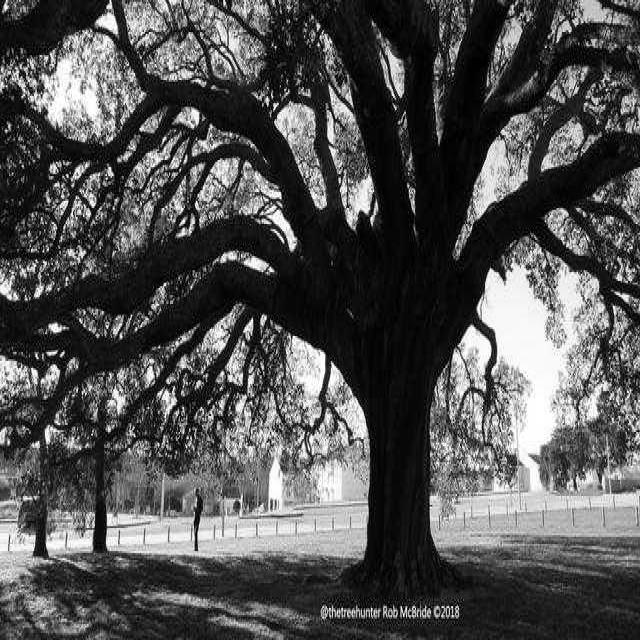Tree: (0, 0, 640, 596)
